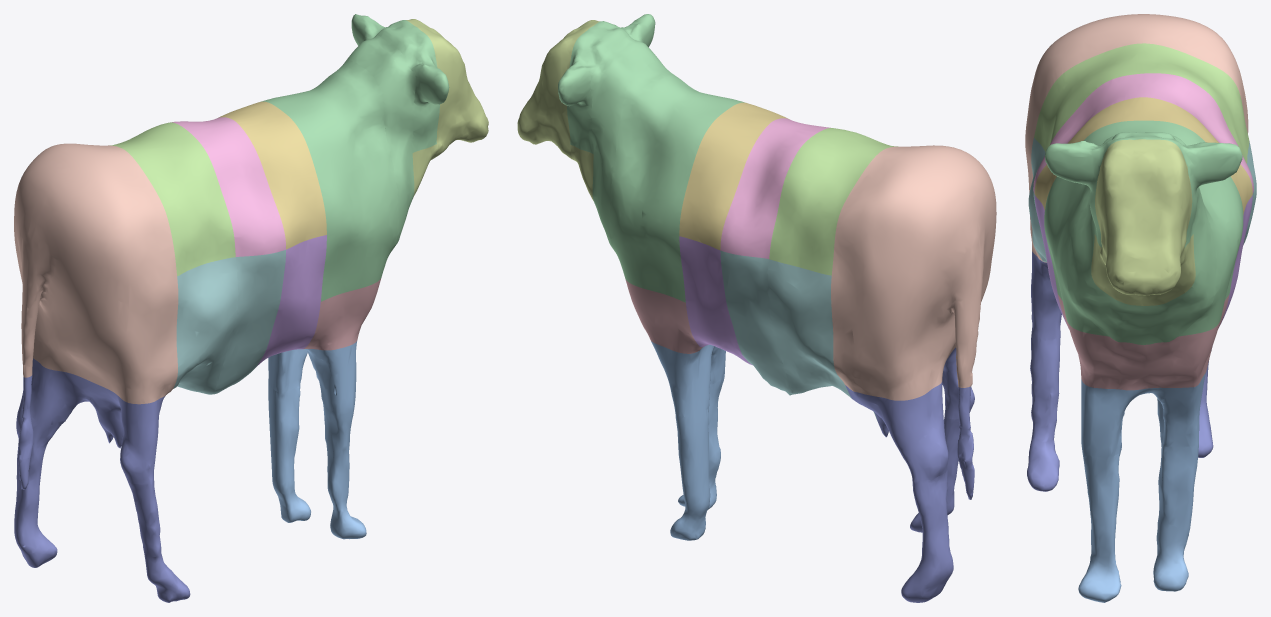
3 renders of one model, left to right at view 1: azimuth 30°, elevation 25°; view 2: azimuth 150°, elevation 25°; view 3: azimuth 270°, elevation 25°, orthographic. The views are drawn at different scales.
Visible parts, largest first — view 1: round, chuck, hindshank, flank, foreshank, sirloin, rib, short_loin, short_plate, cheek, brisket; view 2: round, chuck, flank, hindshank, sirloin, foreshank, rib, short_loin, cheek, short_plate, brisket; view 3: chuck, foreshank, cheek, round, sirloin, hindshank, brisket, short_loin, rib, flank, short_plate.
Boxes of the visible parts, bbox=[...] form: round: bbox=[14, 143, 178, 404]; chuck: bbox=[260, 14, 449, 301]; hindshank: bbox=[14, 358, 190, 602]; flank: bbox=[173, 249, 285, 394]; foreshank: bbox=[268, 341, 366, 539]; sirloin: bbox=[110, 122, 235, 276]; rib: bbox=[218, 101, 326, 249]; short_loin: bbox=[170, 117, 285, 256]; short_plate: bbox=[256, 235, 326, 366]; cheek: bbox=[406, 19, 488, 197]; brisket: bbox=[303, 278, 381, 350]; round: bbox=[831, 145, 996, 400]; chuck: bbox=[558, 14, 744, 302]; flank: bbox=[720, 250, 877, 420]; hindshank: bbox=[845, 347, 974, 602]; sirloin: bbox=[769, 128, 897, 275]; foreshank: bbox=[651, 341, 725, 540]; rib: bbox=[679, 102, 789, 249]; short_loin: bbox=[720, 118, 830, 258]; cheek: bbox=[517, 20, 599, 200]; short_plate: bbox=[679, 236, 752, 365]; brisket: bbox=[625, 279, 702, 353]; chuck: bbox=[1044, 120, 1243, 345]; foreshank: bbox=[1078, 372, 1205, 602]; cheek: bbox=[1091, 139, 1195, 305]; round: bbox=[1025, 14, 1248, 262]; sirloin: bbox=[1034, 43, 1249, 163]; hindshank: bbox=[1027, 251, 1213, 491]; brisket: bbox=[1058, 295, 1229, 390]; short_loin: bbox=[1033, 73, 1253, 193]; rib: bbox=[1034, 97, 1252, 214]; flank: bbox=[1028, 138, 1256, 262]; short_plate: bbox=[1034, 195, 1252, 328].
Bounding box in the file's own units: 1 × 0.995 × 0.4133.
